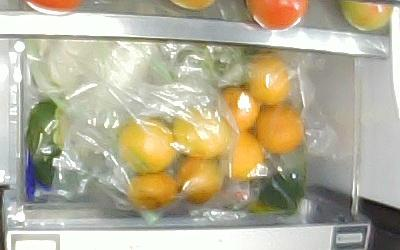tangerine_vinyl: (117, 117, 177, 173), (173, 107, 231, 158), (256, 103, 304, 154), (175, 155, 223, 204), (249, 53, 289, 105), (130, 171, 176, 210), (221, 87, 259, 132), (231, 132, 264, 181)
